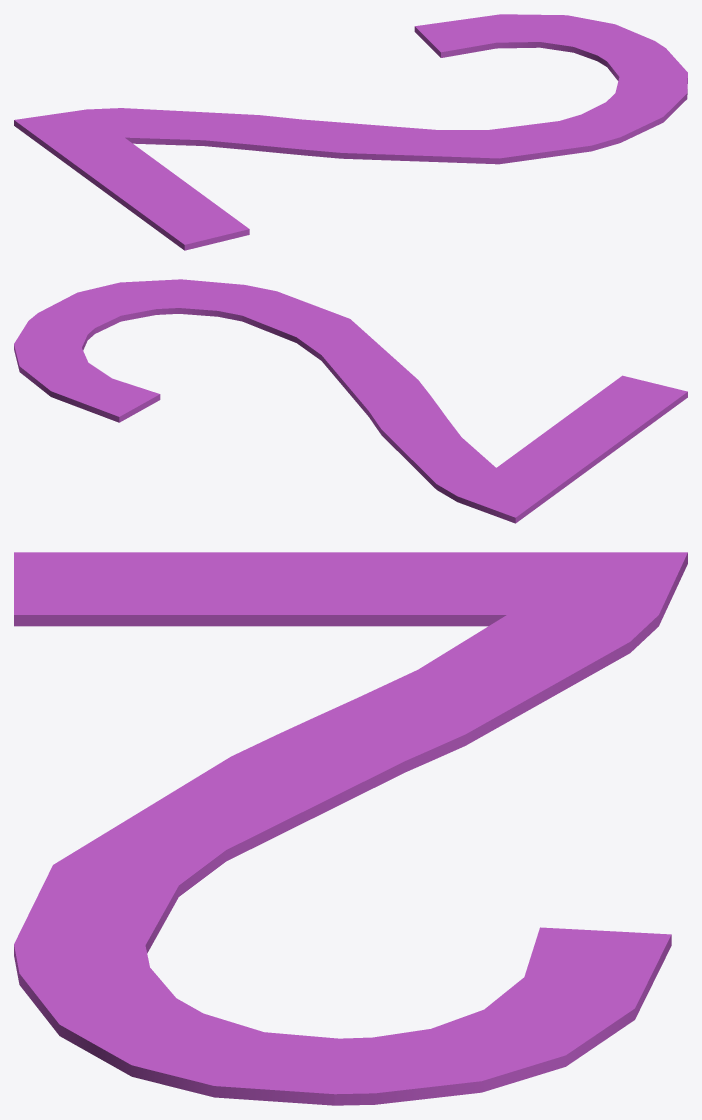
The model's file is IMU_19.gltf.
3 renders of one model, top to bottom at view 1: azimuth 30°, elevation 25°; view 2: azimuth 150°, elevation 25°; view 3: azimuth 270°, elevation 25°, orthographic. The views are drawn at different scales.
Visible parts, largest first — view 1: mesh7677, mesh7678, mesh7668, mesh7672, mesh7679, mesh7675, mesh7667; view 2: mesh7677, mesh7668, mesh7671, mesh7669, mesh7670, mesh7674; view 3: mesh7677, mesh7680, mesh7674, mesh7675, mesh7670, mesh7669.
Boxes of the visible parts, left/top/right/bottom form: mesh7677: left=14, top=14, right=687, bottom=244; mesh7678: left=282, top=145, right=591, bottom=164; mesh7668: left=14, top=120, right=184, bottom=250; mesh7672: left=441, top=42, right=606, bottom=66; mesh7679: left=125, top=137, right=281, bottom=153; mesh7675: left=591, top=78, right=687, bottom=151; mesh7667: left=184, top=229, right=249, bottom=250; mesh7677: left=14, top=279, right=687, bottom=517; mesh7668: left=515, top=392, right=687, bottom=523; mesh7671: left=95, top=308, right=242, bottom=333; mesh7669: left=374, top=419, right=515, bottom=523; mesh7670: left=242, top=316, right=373, bottom=423; mesh7674: left=14, top=345, right=119, bottom=422; mesh7677: left=14, top=552, right=687, bottom=1094; mesh7680: left=14, top=615, right=506, bottom=626; mesh7674: left=334, top=935, right=671, bottom=1105; mesh7675: left=14, top=945, right=334, bottom=1105; mesh7670: left=145, top=751, right=428, bottom=953; mesh7669: left=428, top=553, right=687, bottom=761.
Bounding box in the file's own units: 0.00101 × 1e-05 × 0.000532.
